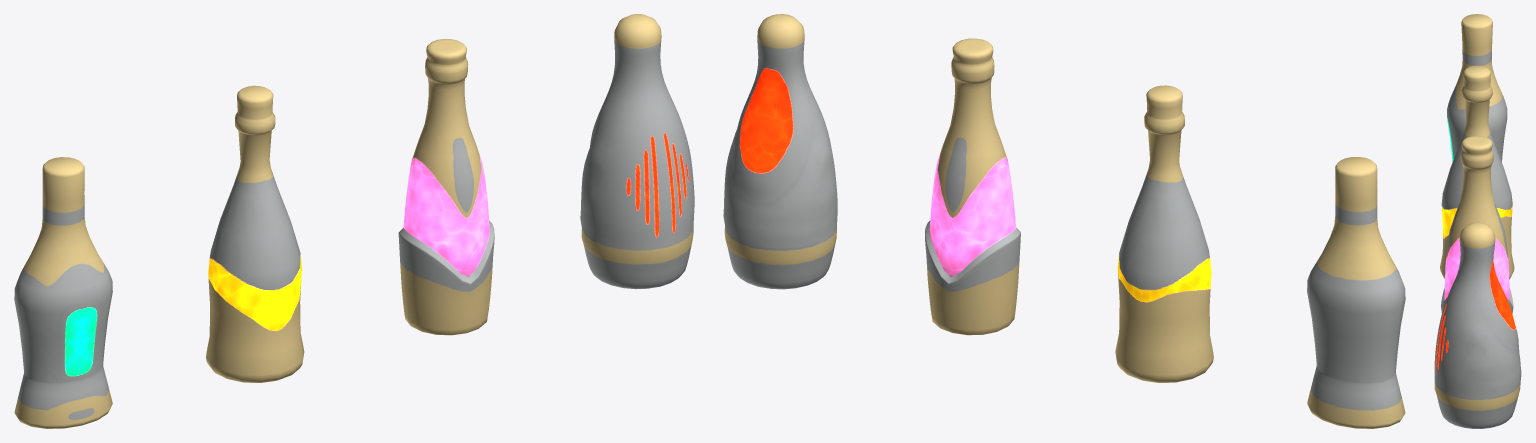
Rendered from BarBottles03_2.FBX.
3 renders of one model, left to right at view 1: azimuth 30°, elevation 25°; view 2: azimuth 150°, elevation 25°; view 3: azimuth 270°, elevation 25°, orthographic. The views are drawn at different scales.
Visible parts, largest first — view 1: BarBottles03_2; view 2: BarBottles03_2; view 3: BarBottles03_2.
Boxes of the visible parts, box(x1,y1,x2,y2) form: BarBottles03_2: box(14, 14, 694, 428); BarBottles03_2: box(723, 14, 1405, 428); BarBottles03_2: box(1434, 14, 1521, 428).
Size of what is drawn, in the model's own units: 0.8708 by 0.34 by 0.1305.
